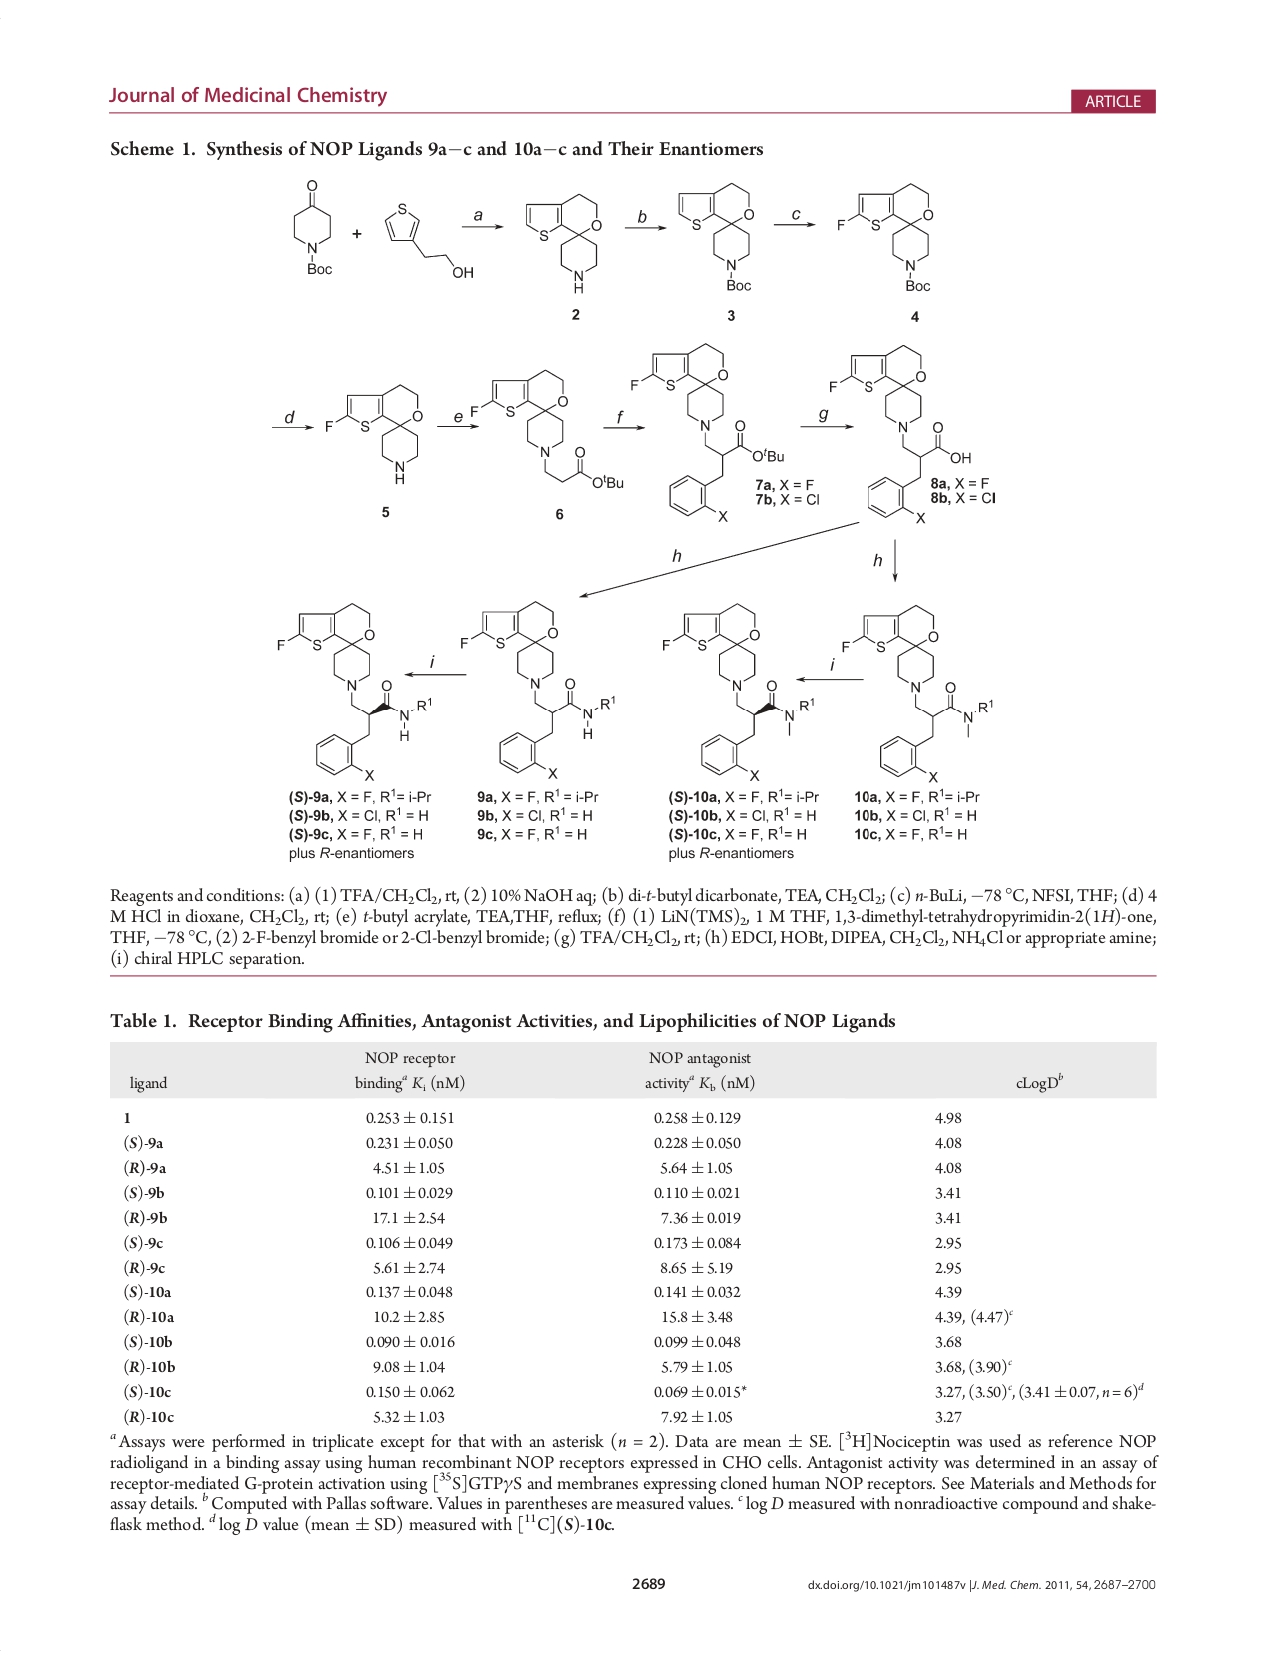exist_molecular: (626, 336, 786, 524), (657, 600, 817, 786), (457, 598, 618, 781), (274, 598, 434, 782), (838, 602, 993, 785), (826, 342, 979, 527), (467, 364, 626, 501), (828, 176, 949, 297), (672, 177, 769, 299), (320, 379, 426, 485), (520, 186, 606, 297), (380, 198, 481, 283), (273, 173, 347, 279)
